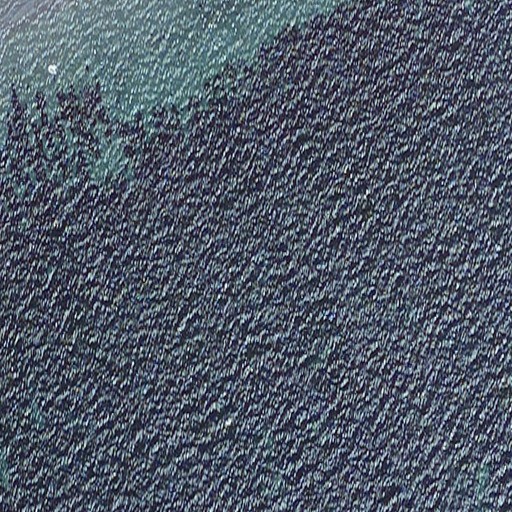ship: (46, 61, 58, 77)
